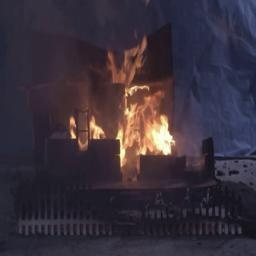fire: (85, 37, 180, 167)
